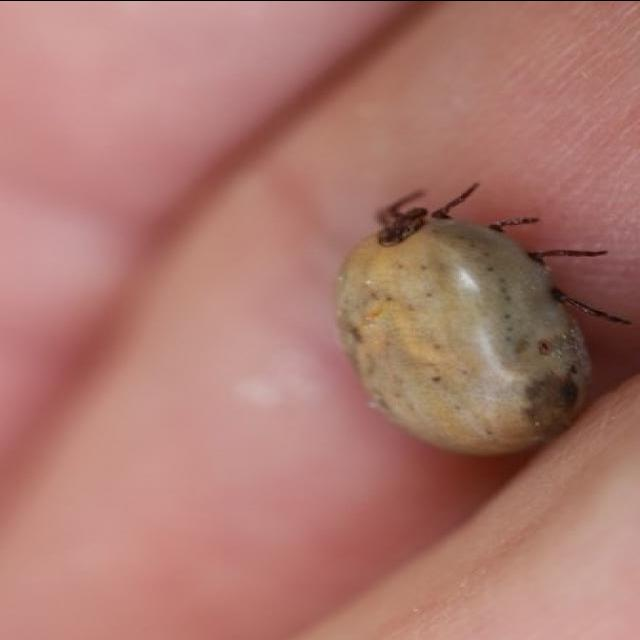Dermacentor Reticulatus-F-Fed: (333, 180, 630, 454)
